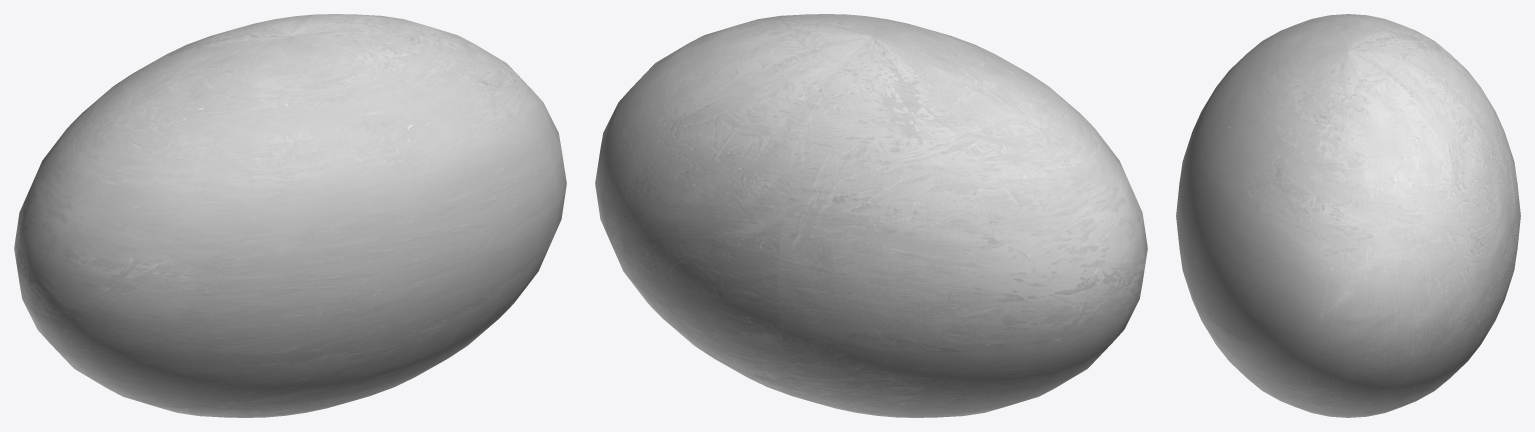
Rendered from blanc1.FBX.
3 views of the same model, side by side, from view 1: azimuth 30°, elevation 25°; view 2: azimuth 150°, elevation 25°; view 3: azimuth 270°, elevation 25° (orthographic). The views are drawn at different scales.
Parts seen in each view (by area): view 1: Sphère008; view 2: Sphère008; view 3: Sphère008.
Part boxes in pixels (x1,y1,x2,y2): Sphère008: [14, 14, 566, 417]; Sphère008: [595, 14, 1147, 417]; Sphère008: [1176, 14, 1520, 417].
Size of the model in its own units: 4.24 by 2.8 by 2.65.
Materials: 1 (1 with a texture image).
